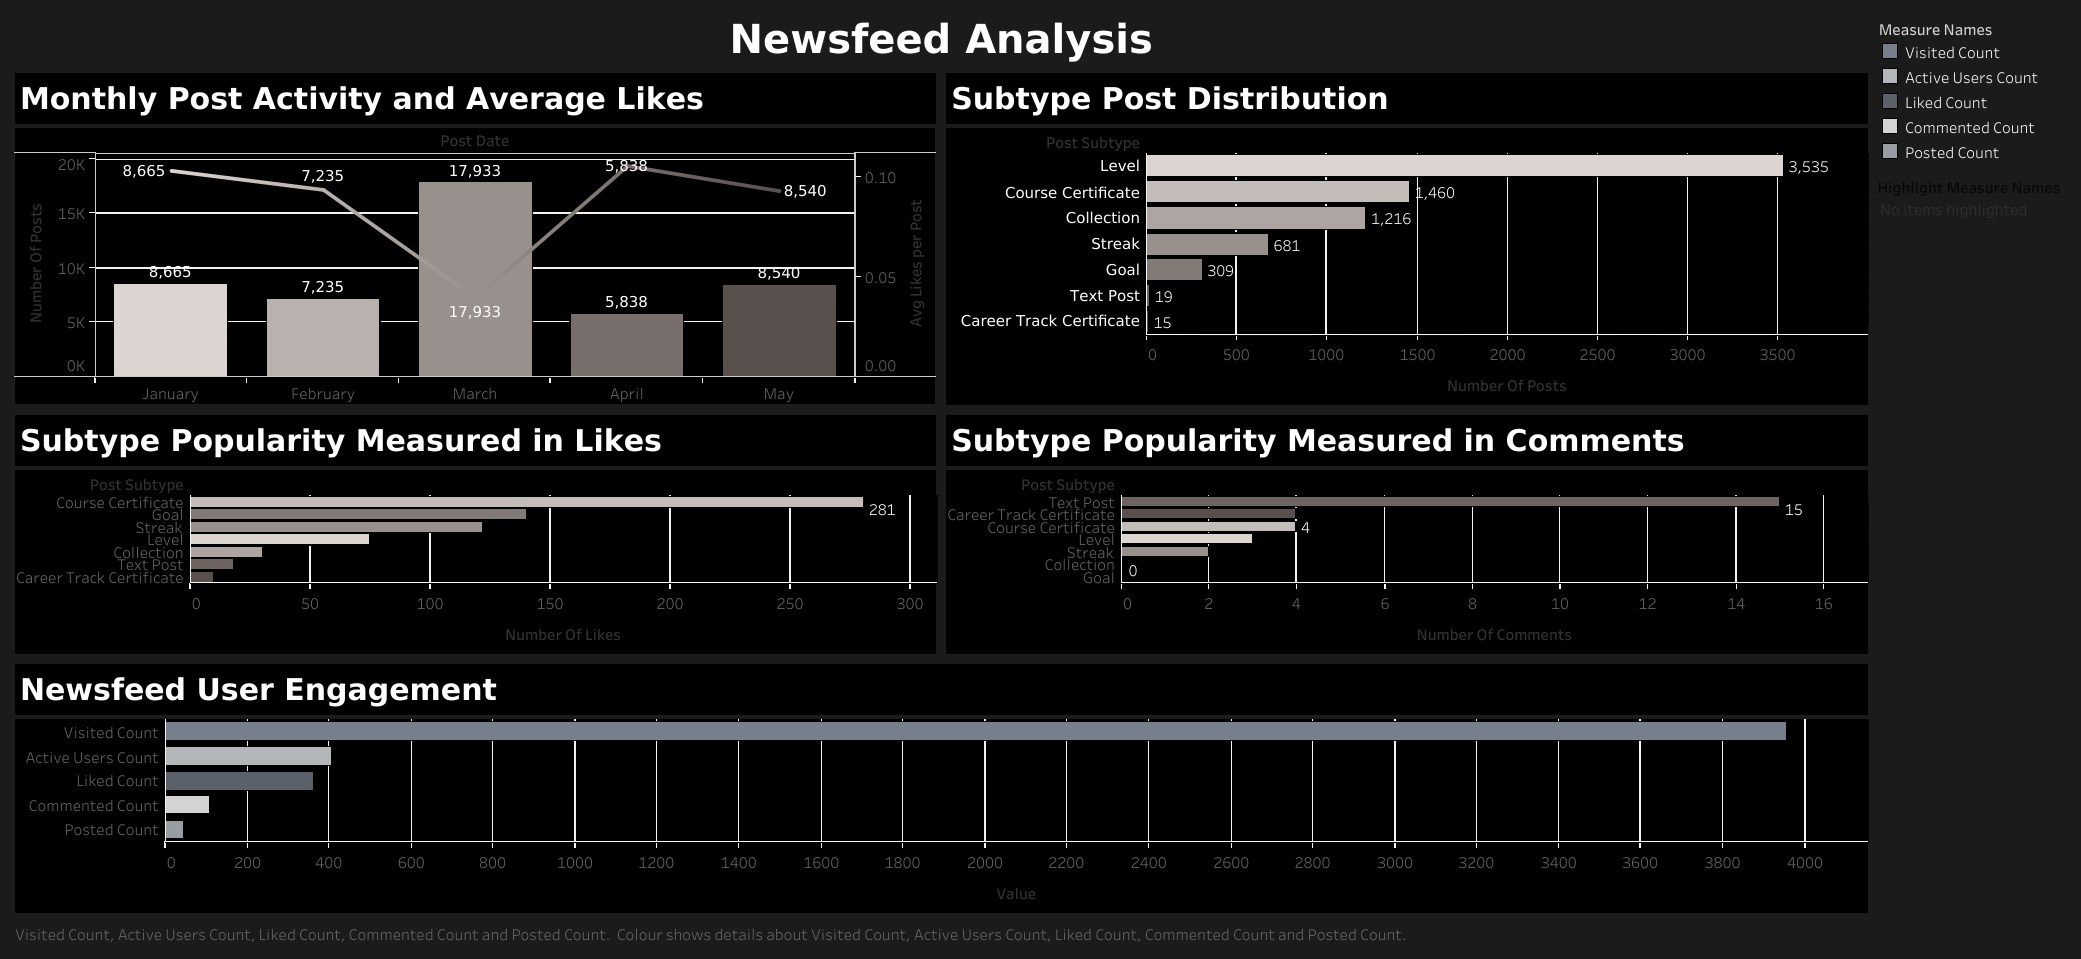

The dashboard page shown, as its layout file describes it:
{"tool":"tableau","page":{"name":"Dashboard 1","canvas":[1666,768],"ordinal":0},"visuals":[{"type":"title","box":[8,8,1650,39]},{"type":"worksheet","title":"Sheet 1","mark":"Bar","rows":["number_of_posts","Calculation_2221119090872561664"],"cols":["post_date"],"box":[8,47,824.9,276.8]},{"type":"worksheet","title":"Sheet 2","mark":"Automatic","rows":["post_subtype"],"cols":["number_of_posts"],"box":[832.9,47,825.1,276.8]},{"type":"worksheet","title":"Sheet 3","mark":"Automatic","rows":["post_subtype"],"cols":["number_of_likes"],"box":[8,323.8,824.9,201]},{"type":"worksheet","title":"Sheet 4","mark":"Automatic","rows":["post_subtype"],"cols":["number_of_comments"],"box":[832.9,323.8,825.1,201]},{"type":"worksheet","title":"Sheet 5","mark":"Automatic","box":[8,524.8,1650,235.2]}]}

Visuals, with their boxes in screenshot pixels (x1, y1, x2, y2), scaled from the page's 1666x768 canvas onto the 2081x959 screenshot:
title: 10 10 2071 59
"Sheet 1" worksheet (Bar marks): 10 59 1040 404
"Sheet 2" worksheet: 1040 59 2071 404
"Sheet 3" worksheet: 10 404 1040 655
"Sheet 4" worksheet: 1040 404 2071 655
"Sheet 5" worksheet: 10 655 2071 949
